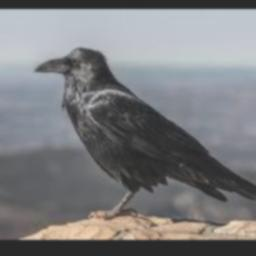Crow: (35, 47, 256, 220)
